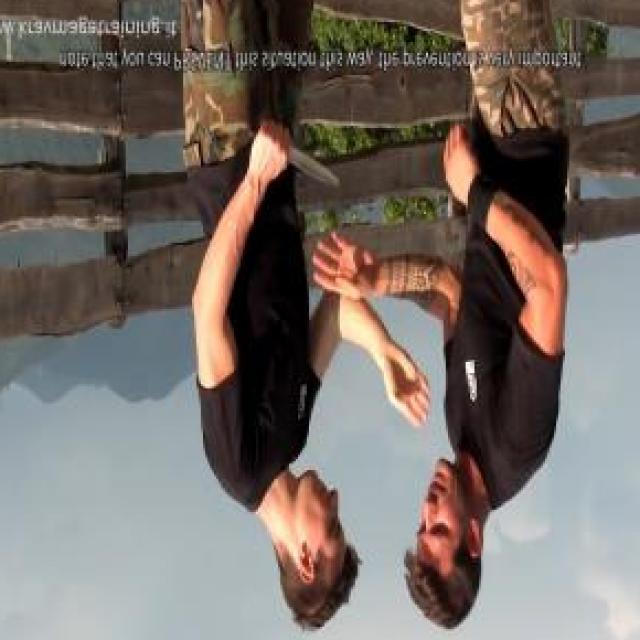knife: (245, 116, 345, 194)
